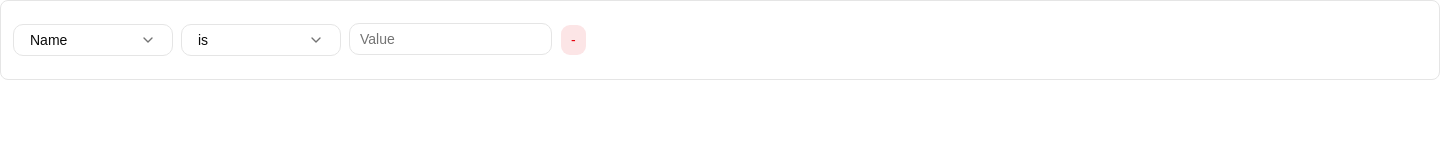
Test: Rule tests › shows error on blur with empty value
The width and height of the screenshot is (1440, 160).
Click the field with placeholder "Value": (450, 39) x1=349 y1=23 x2=552 y2=55
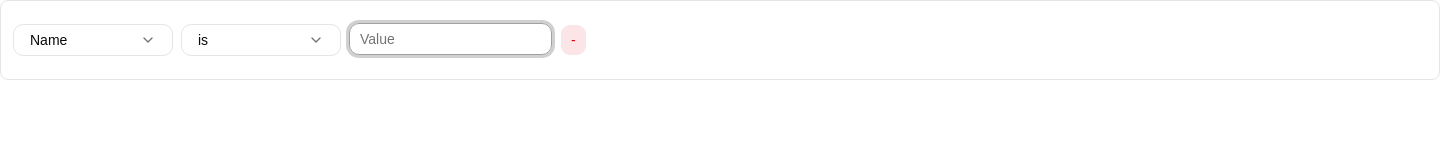
Press Tab
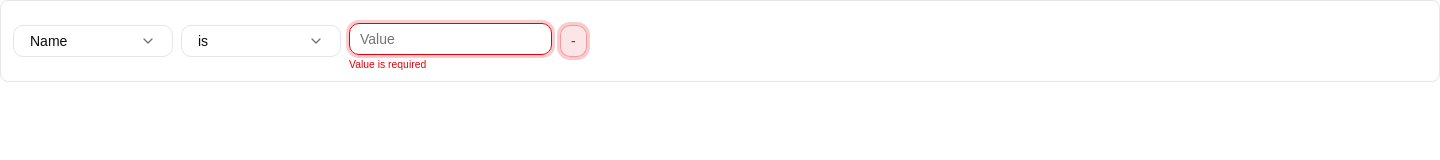
Expected: the text "Value is required" is shown, x1=349 y1=59 x2=426 y2=70
